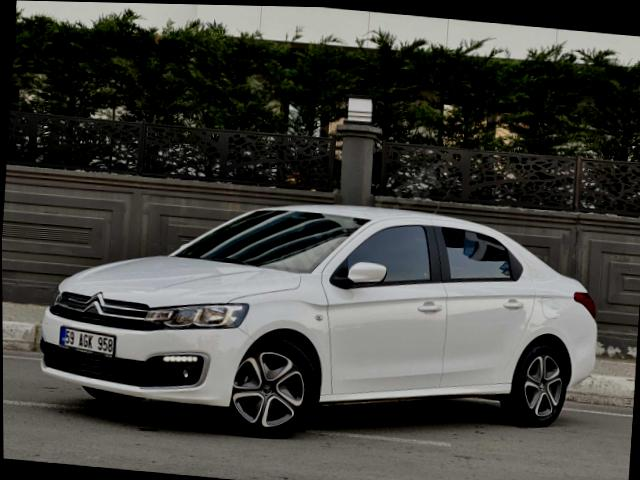plaka: (59, 327, 113, 357)
